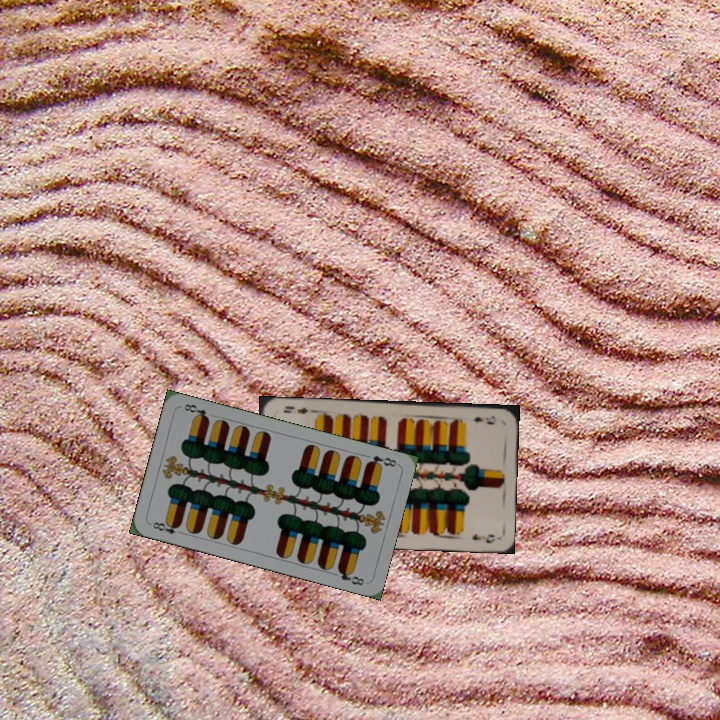E8: (148, 517, 186, 537), (363, 451, 399, 471)
E9: (469, 412, 497, 427)
